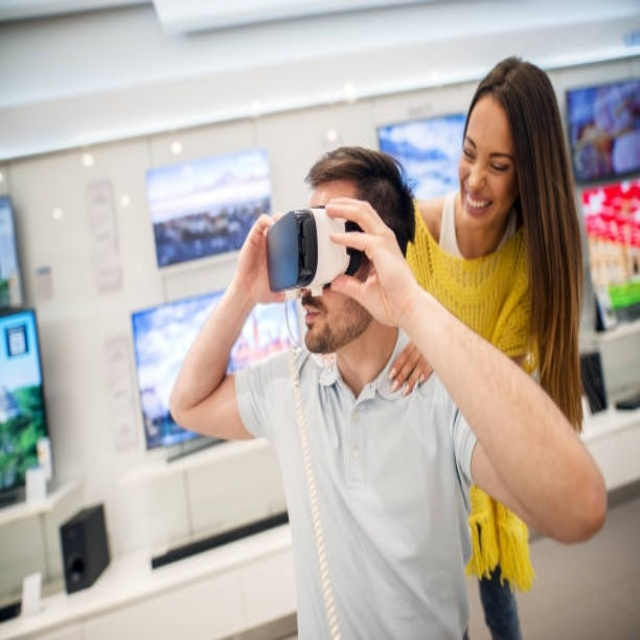Sin_gafas: (461, 130, 510, 179)
Sin_guantes: (321, 195, 420, 331), (229, 205, 277, 318)
Sin_mascara: (298, 292, 332, 348), (459, 184, 494, 221)
